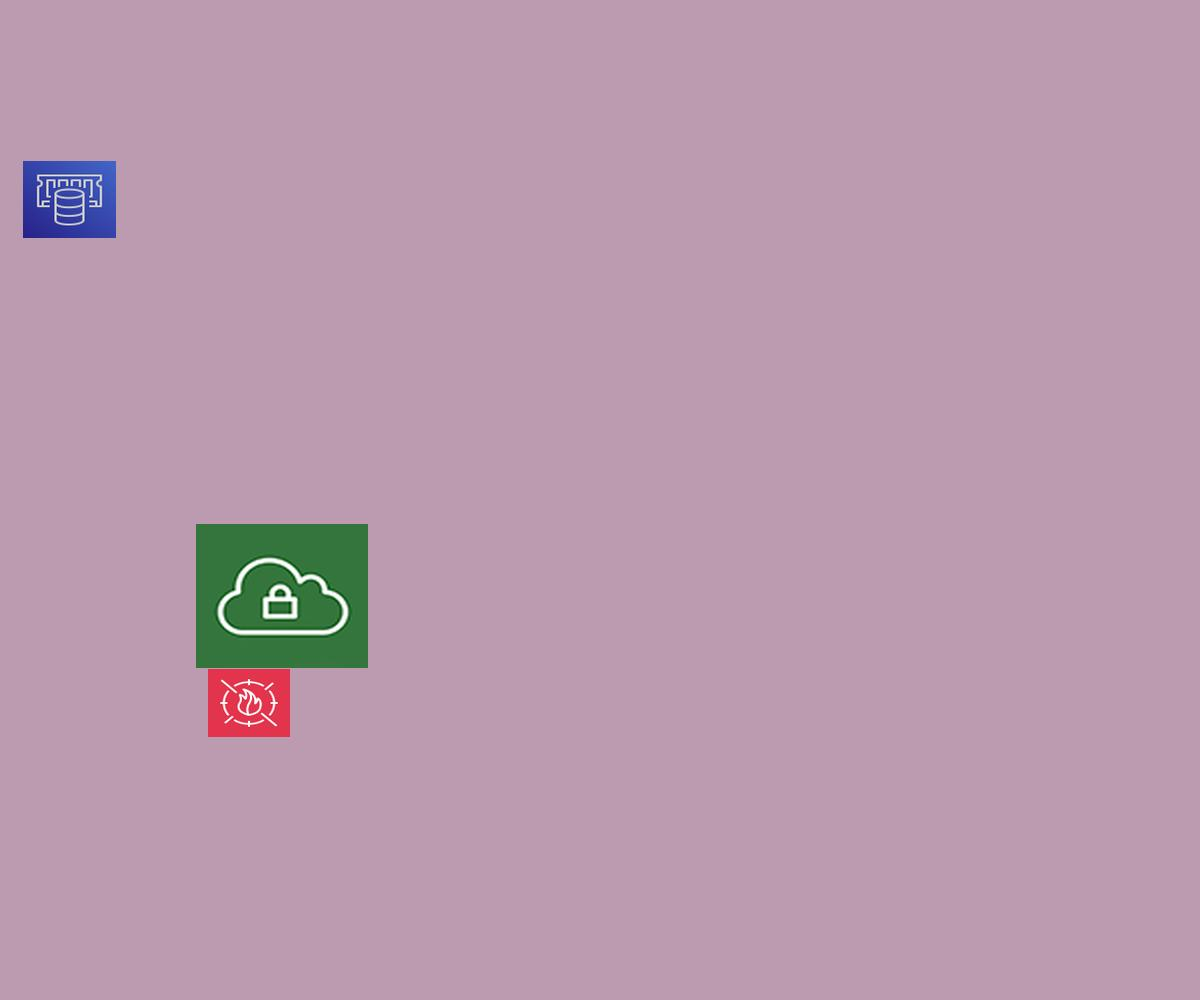AWS-ElastiCache: (23, 161, 116, 238)
AWS-Private_vpc: (196, 524, 368, 668)
AWS-WAF: (208, 669, 290, 737)
